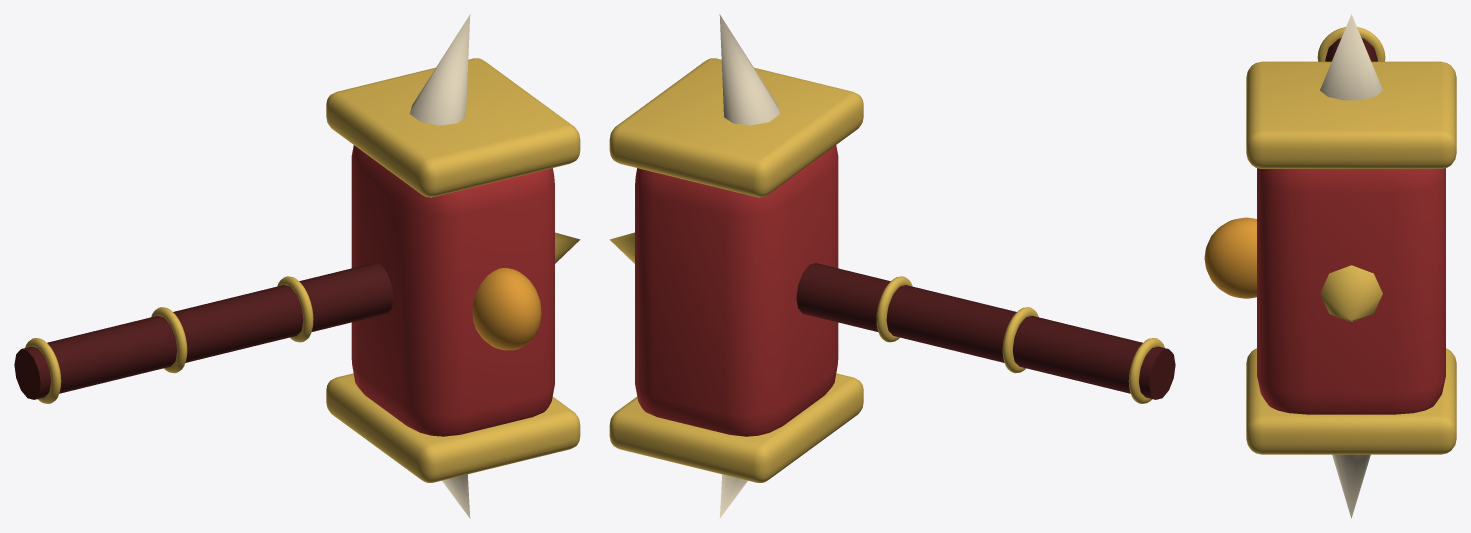
The model's file is wpn_wyrmbreaker.glb.
3 renders of one model, left to right at view 1: azimuth 30°, elevation 25°; view 2: azimuth 150°, elevation 25°; view 3: azimuth 270°, elevation 25°, orthographic.
Parts seen in each view (by area): view 1: object 1, box.002, box.001, cone.001, torus.002, torus.001, torus; view 2: object 1, box.002, box.001, cone.001, torus.001, torus.002, torus; view 3: object 1, box.002, box.001, cone.001, cone, torus.
Boxes of the visible parts, <box> form: object 1: <box>14,145,580,436</box>; box.002: <box>326,58,580,197</box>; box.001: <box>326,373,580,482</box>; cone.001: <box>410,14,470,125</box>; torus.002: <box>277,276,313,342</box>; torus.001: <box>151,307,187,373</box>; torus: <box>25,338,61,403</box>; object 1: <box>609,145,1175,436</box>; box.002: <box>609,58,863,197</box>; box.001: <box>609,373,863,482</box>; cone.001: <box>719,14,779,125</box>; torus.001: <box>1002,307,1038,373</box>; torus.002: <box>876,276,912,342</box>; torus: <box>1128,338,1164,403</box>; object 1: <box>1204,38,1445,414</box>; box.002: <box>1246,61,1456,168</box>; box.001: <box>1246,348,1456,454</box>; cone.001: <box>1320,14,1382,100</box>; cone: <box>1332,454,1370,518</box>; torus: <box>1317,27,1385,61</box>.
Size of the model in its own units: 1.52 by 1.33 by 0.6.
